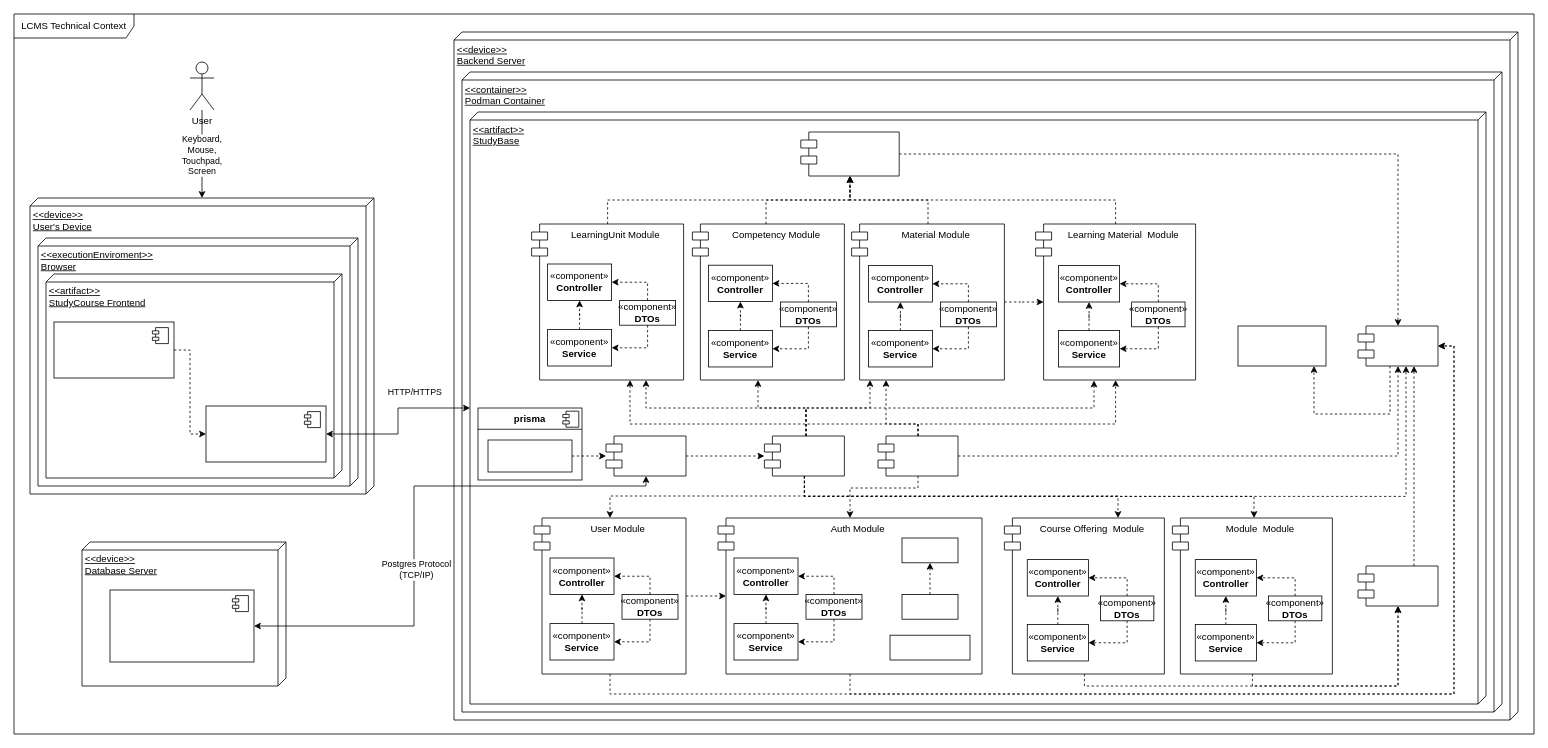
Image size: 1548x748. Some labels were removed from this diagram. The centre of each missing label's shape, as x and y in pixels:
"<<DB Schema>> schema.prisma" belongs at (x=529, y=455).
"App Module" belongs at (x=1397, y=345).
"Config Module" belongs at (x=917, y=455).
"LCMS Module" belongs at (x=849, y=153).
"Plan Module" belongs at (x=1397, y=585).
"Prisma Client" belongs at (x=645, y=455).
"Prisma Module" belongs at (x=804, y=455).
"«component» app/ (UI)" belongs at (x=113, y=349).
"«component» guards" belongs at (x=929, y=550).
"«component» main.ts" belongs at (x=1281, y=345).
"«component» Public decorator" belongs at (x=929, y=647).
"«component» shared/ (services)" belongs at (x=265, y=433).
"«component» strategies" belongs at (x=929, y=606).
"«Database» StudyBase DB (PostgreSQL)" belongs at (x=181, y=625).
